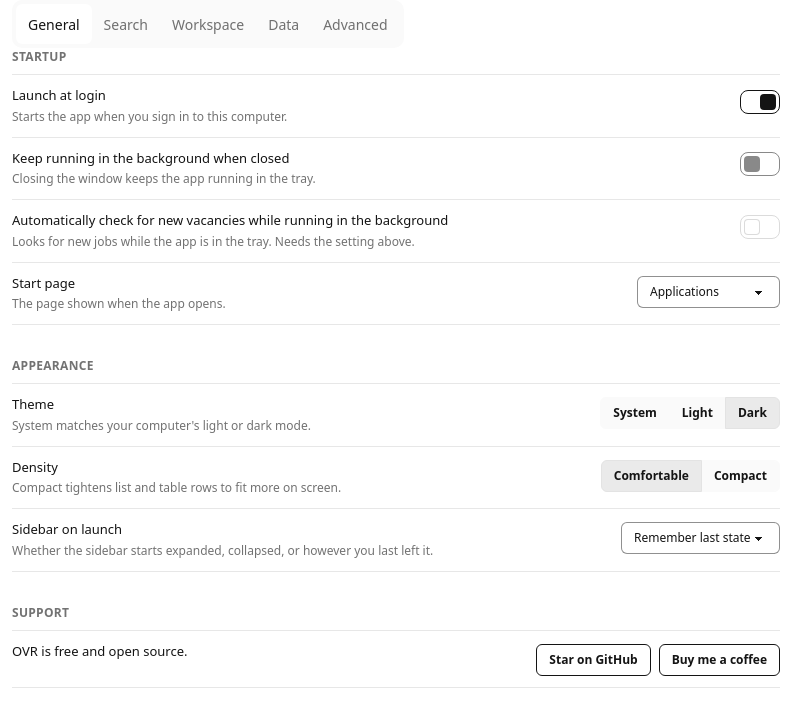
Test: SettingsPage › loads settings on mount and populates the form without saving anything
Expected: the dropdown labelled "Start page" shows "Applications", [637,276,780,308]
Expected: the switch named "Launch at login" is checked, [740,90,780,114]
Click the tab "Search". click: (126, 24)
box: [92,4,160,44]
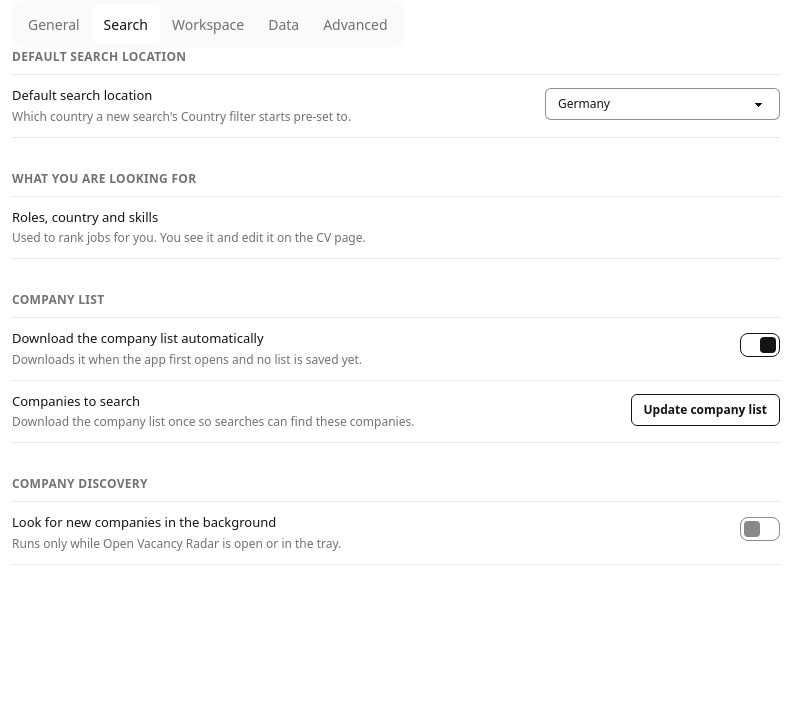
Expected: the dropdown labelled "Default search location" shows "Germany", [545,88,780,120]
